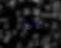nine: (24, 20, 29, 28)
six: (30, 19, 35, 27), (36, 19, 41, 27)
two: (18, 21, 23, 28)
